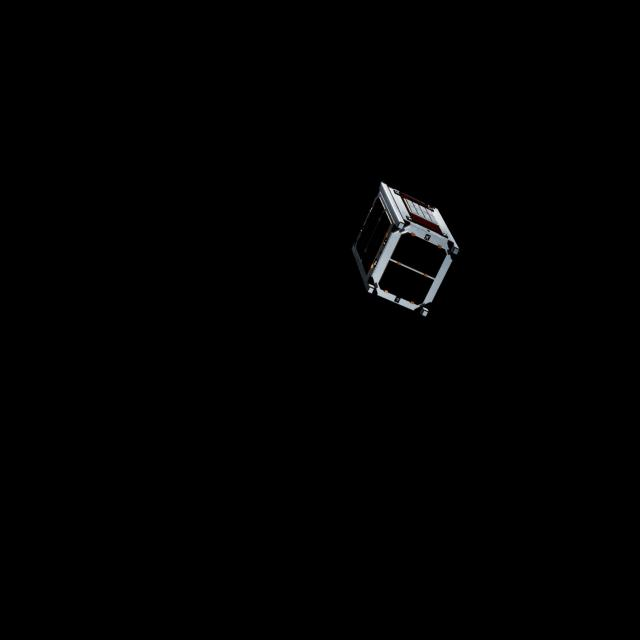medium_debris: (354, 181, 462, 330)
